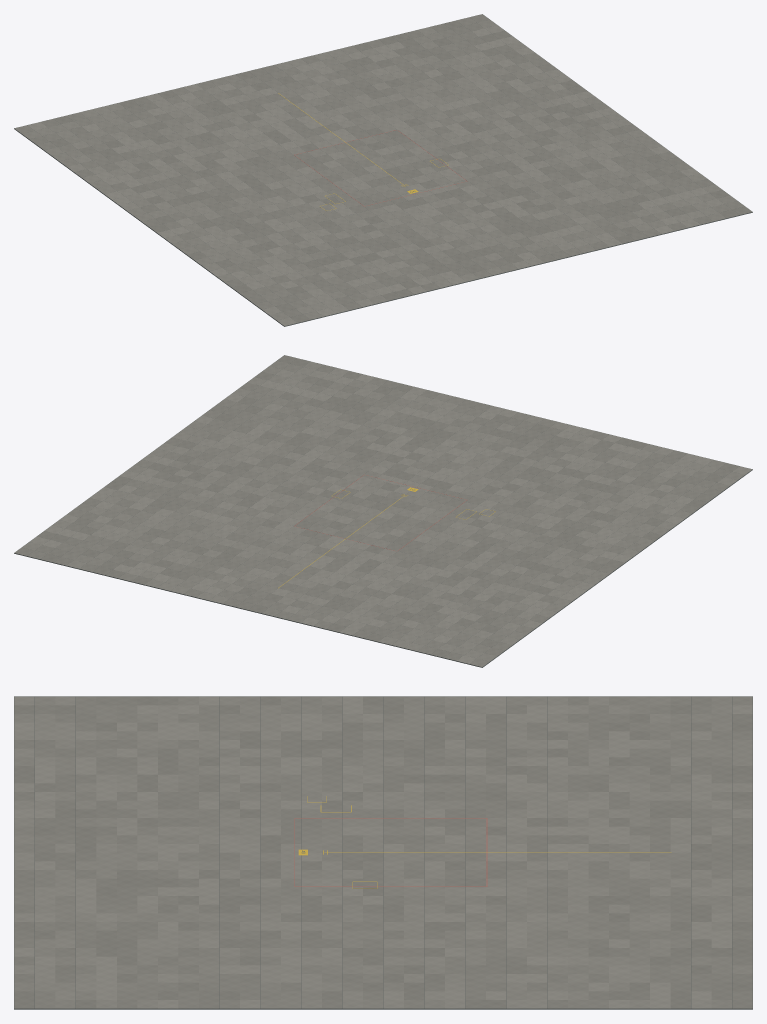
Rendered from apron.glb.
3 views of the same model, one above another, from view 1: azimuth 30°, elevation 25°; view 2: azimuth 150°, elevation 25°; view 3: azimuth 270°, elevation 25° (orthographic). The views are drawn at different scales.
Parts seen in each view (by area): view 1: Concrete_slab_batch_01, Concrete_slab_batch_02, Concrete_slab_batch_04, Concrete_slab_batch_06, Concrete_slab_batch_05, Concrete_slab_batch_03, Concrete_slab_batch_00, Apron_subbase; view 2: Concrete_slab_batch_01, Concrete_slab_batch_02, Concrete_slab_batch_04, Concrete_slab_batch_06, Concrete_slab_batch_05, Concrete_slab_batch_03, Concrete_slab_batch_00, Apron_subbase; view 3: Concrete_slab_batch_01, Concrete_slab_batch_02, Concrete_slab_batch_04, Concrete_slab_batch_06, Concrete_slab_batch_05, Concrete_slab_batch_03, Concrete_slab_batch_00, Apron_subbase, Apron_demonstration_markings_Apron_safety_red_batch, Apron_demonstration_markings_Apron_marking_yellow_batch.
Part boxes in pixels (x1,y1,x2,y2): Concrete_slab_batch_01: [30, 14, 714, 317]; Concrete_slab_batch_02: [15, 17, 744, 309]; Concrete_slab_batch_04: [35, 27, 721, 314]; Concrete_slab_batch_06: [28, 28, 708, 316]; Concrete_slab_batch_05: [67, 25, 723, 325]; Concrete_slab_batch_03: [22, 19, 736, 320]; Concrete_slab_batch_00: [50, 20, 751, 322]; Apron_subbase: [14, 14, 752, 326]; Concrete_slab_batch_01: [15, 364, 731, 660]; Concrete_slab_batch_02: [28, 360, 729, 666]; Concrete_slab_batch_04: [52, 367, 718, 658]; Concrete_slab_batch_06: [43, 374, 713, 663]; Concrete_slab_batch_05: [30, 368, 751, 638]; Concrete_slab_batch_03: [22, 361, 744, 661]; Concrete_slab_batch_00: [37, 355, 738, 657]; Apron_subbase: [14, 355, 752, 667]; Concrete_slab_batch_01: [14, 696, 752, 1008]; Concrete_slab_batch_02: [14, 696, 752, 1008]; Concrete_slab_batch_04: [14, 696, 752, 1008]; Concrete_slab_batch_06: [14, 696, 752, 1008]; Concrete_slab_batch_05: [14, 696, 752, 1008]; Concrete_slab_batch_03: [14, 696, 752, 1008]; Concrete_slab_batch_00: [14, 696, 752, 1008]; Apron_subbase: [14, 696, 752, 1009]; Apron_demonstration_markings_Apron_safety_red_batch: [294, 818, 487, 886]; Apron_demonstration_markings_Apron_marking_yellow_batch: [298, 796, 671, 888].
Size of the model in its own units: 200 by 0.291 by 200.
11 materials, 7 textured.
